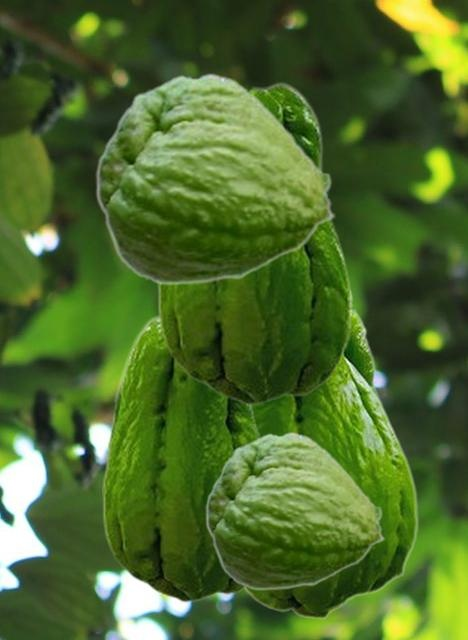sayote: (157, 81, 351, 405), (244, 289, 418, 619), (95, 72, 336, 285), (102, 315, 262, 602), (205, 431, 385, 590)
